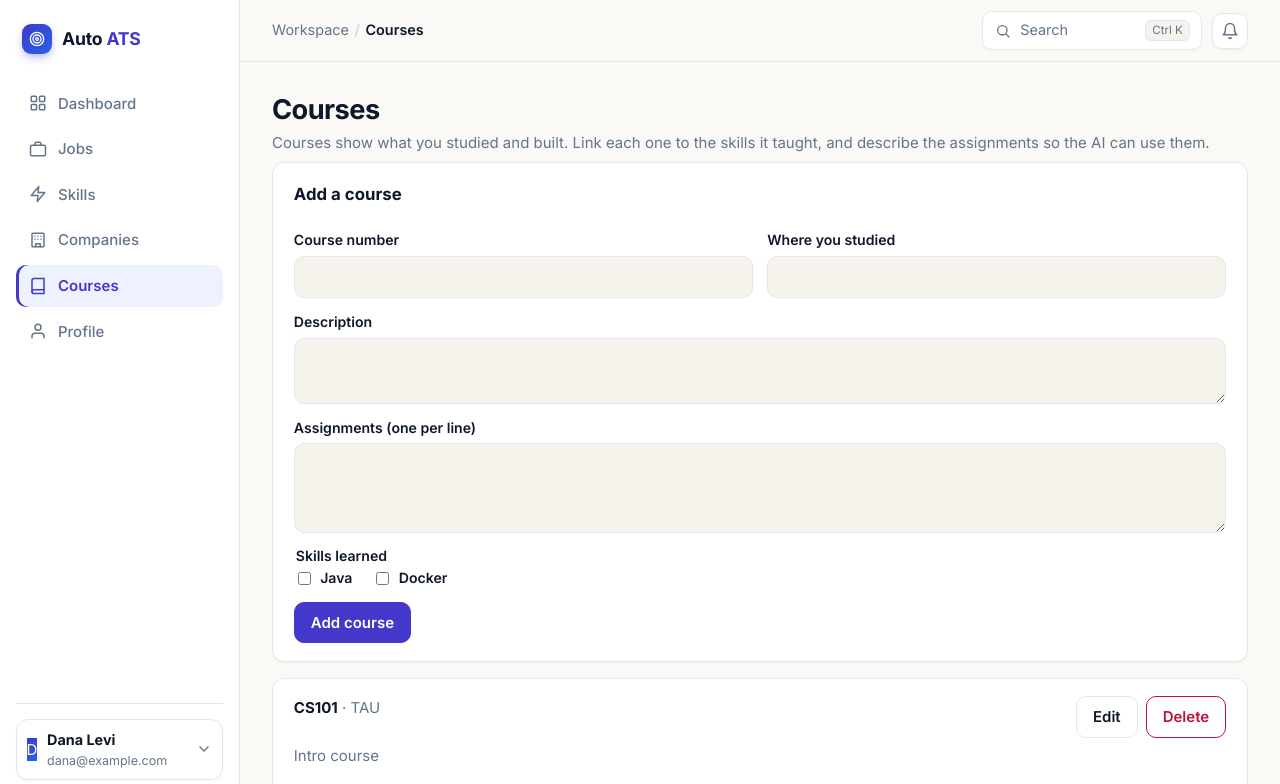
CoursesPage › GivenEditedCourse_WhenSaving_ThenItIsUpdated
The image size is (1280, 784).
Click the button with aria-label "Edit CS101".
click(1107, 717)  # box [1076,696,1138,738]
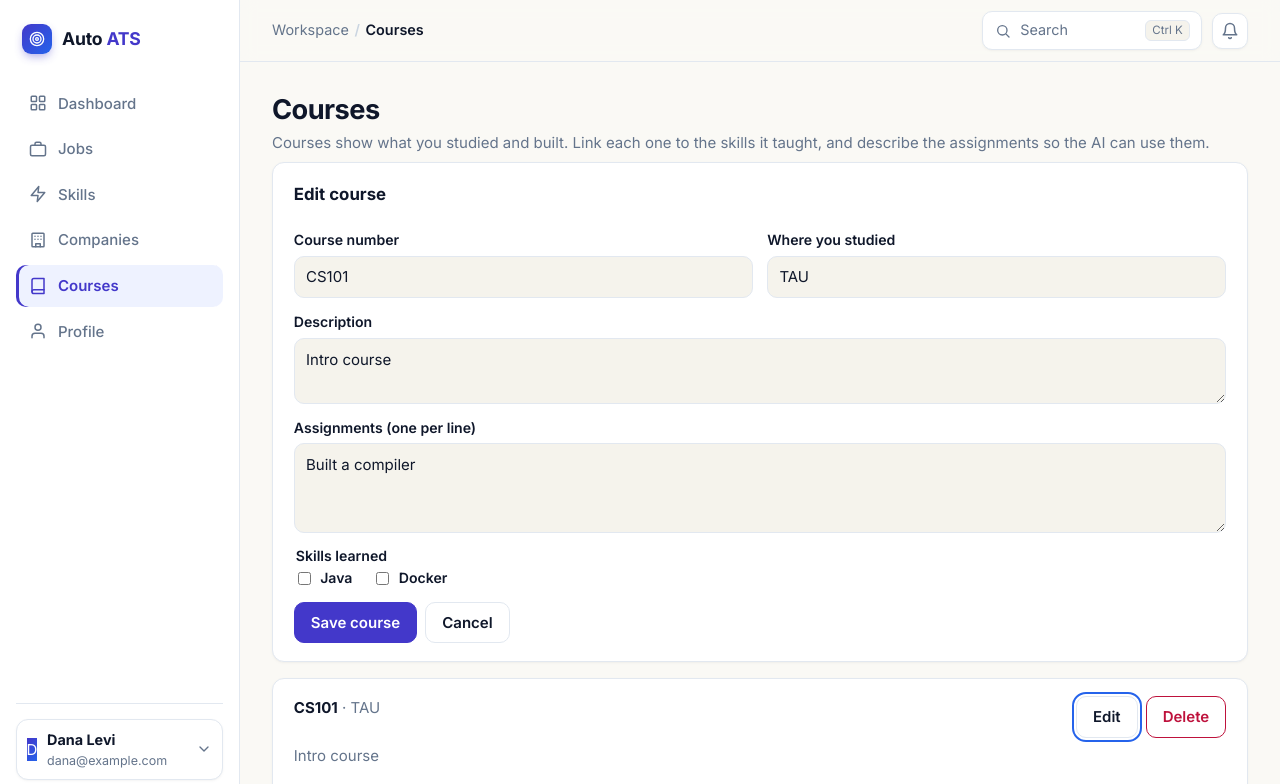
Replace the text in the field labelled "Course number" with "CS102" at (523, 277), box [294,256,753,298]
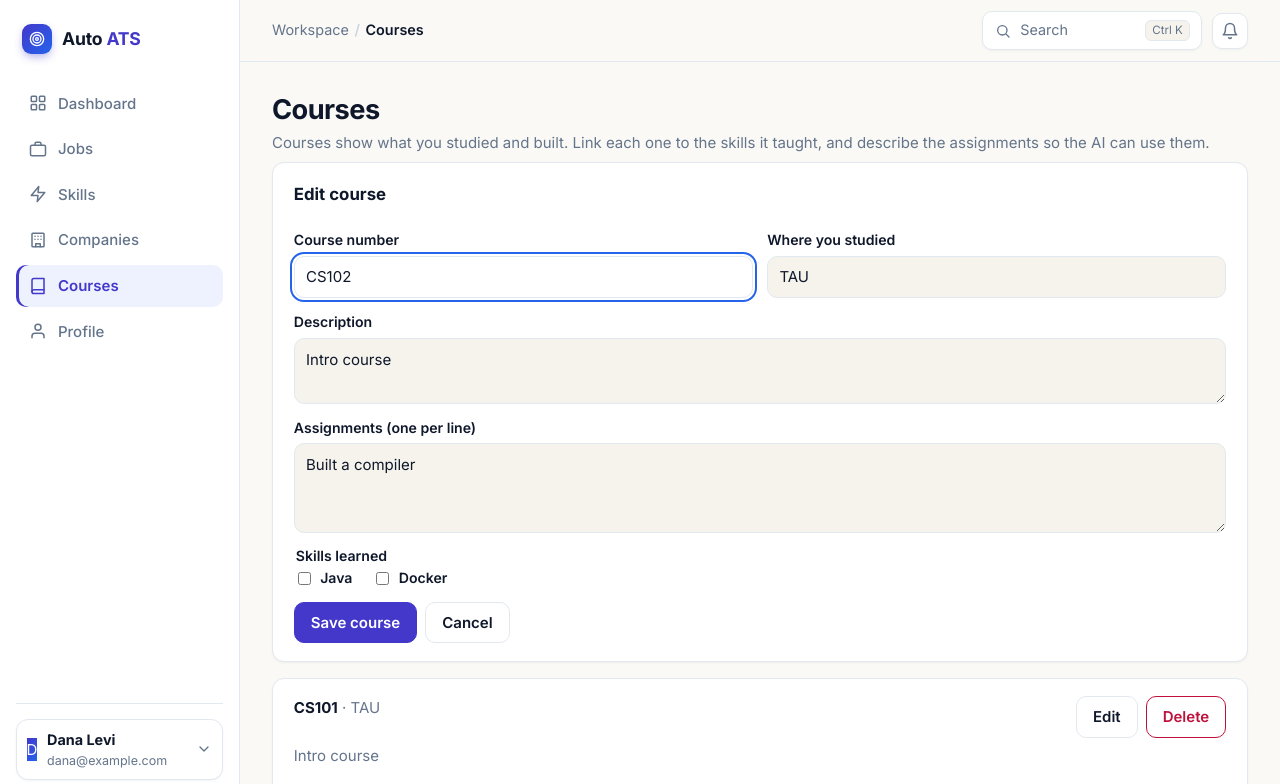
Click the button "Save course".
click(356, 623)  # box [294,602,417,643]
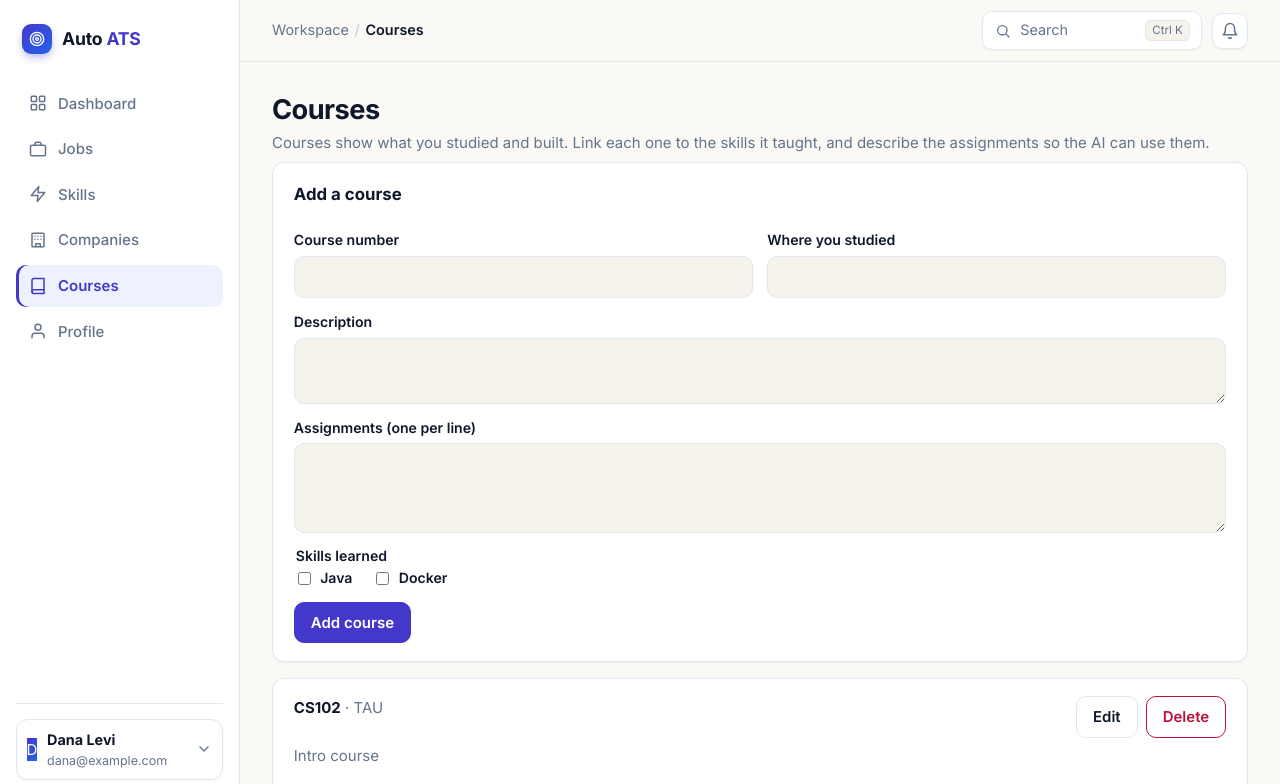
Check: the text "CS102" is shown, box [294,698,341,717]
